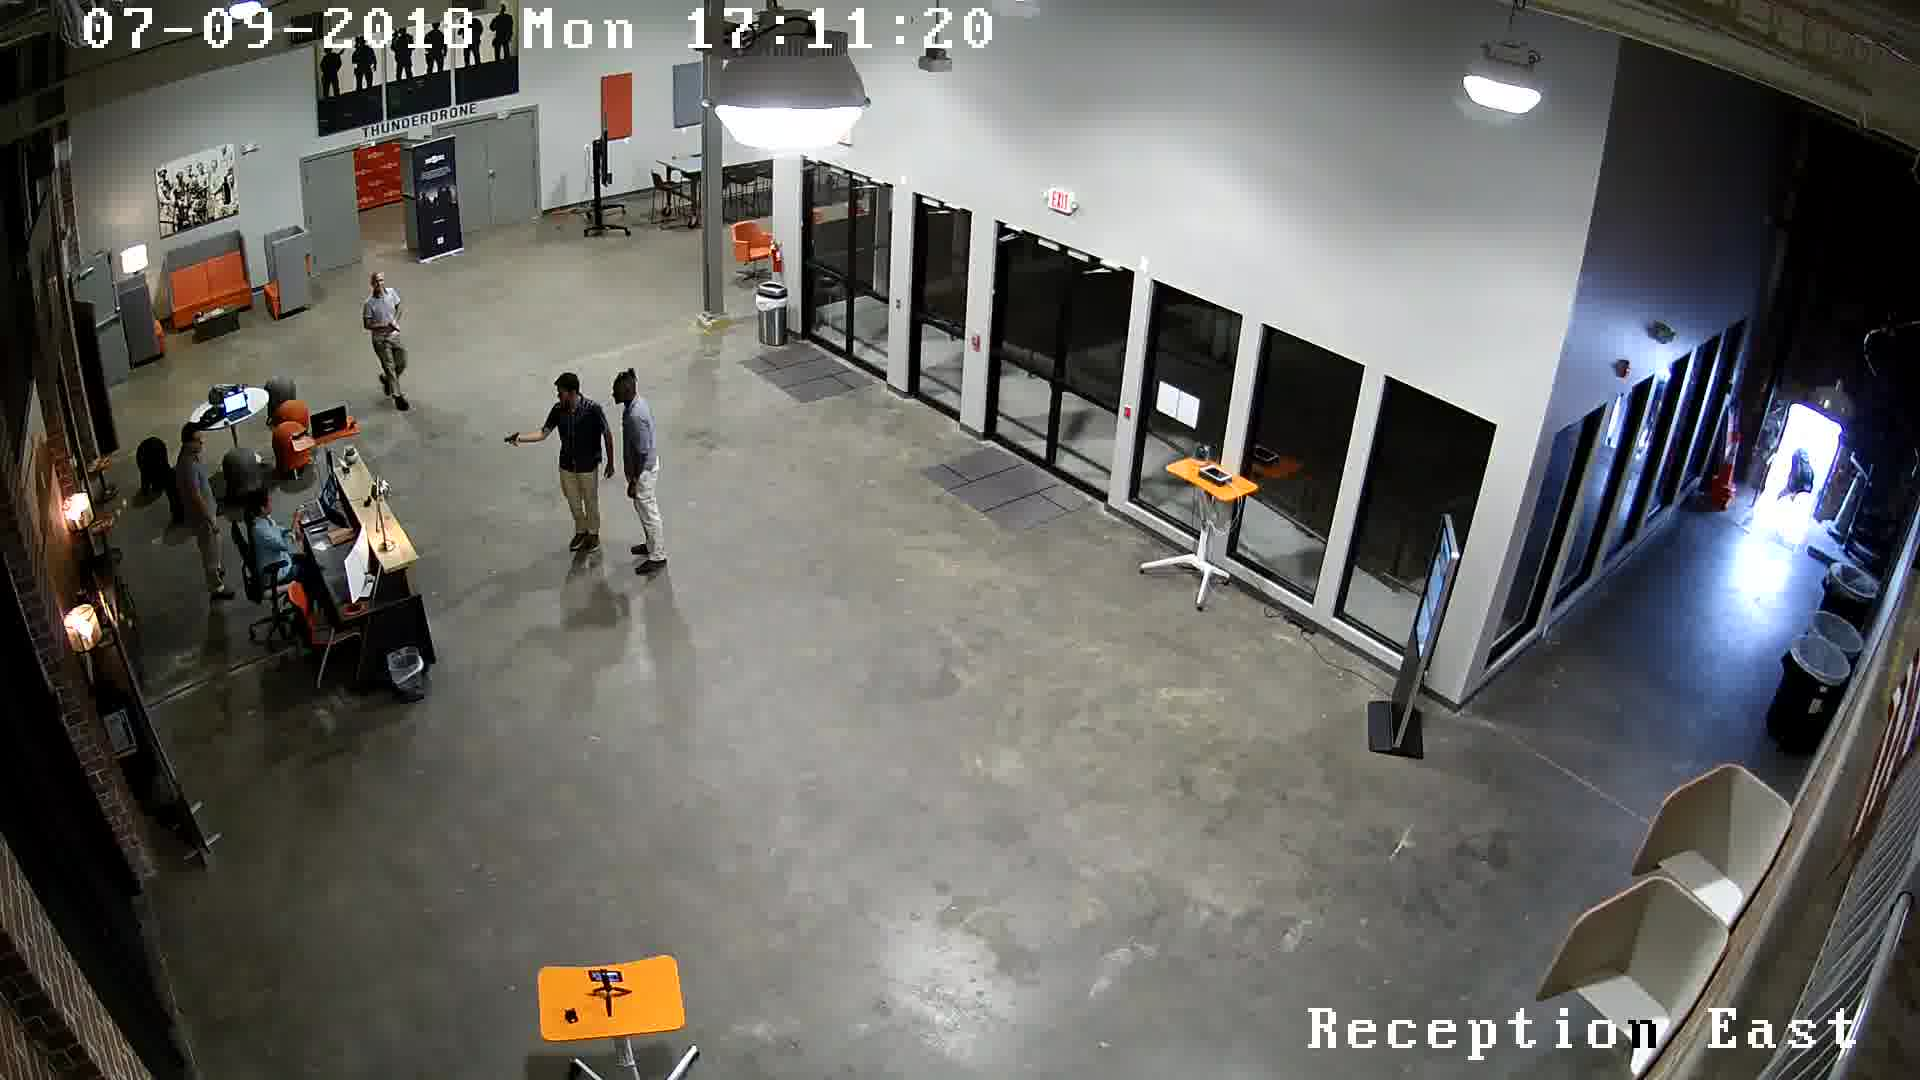pistol: (488, 415, 531, 462), (373, 315, 407, 343)
